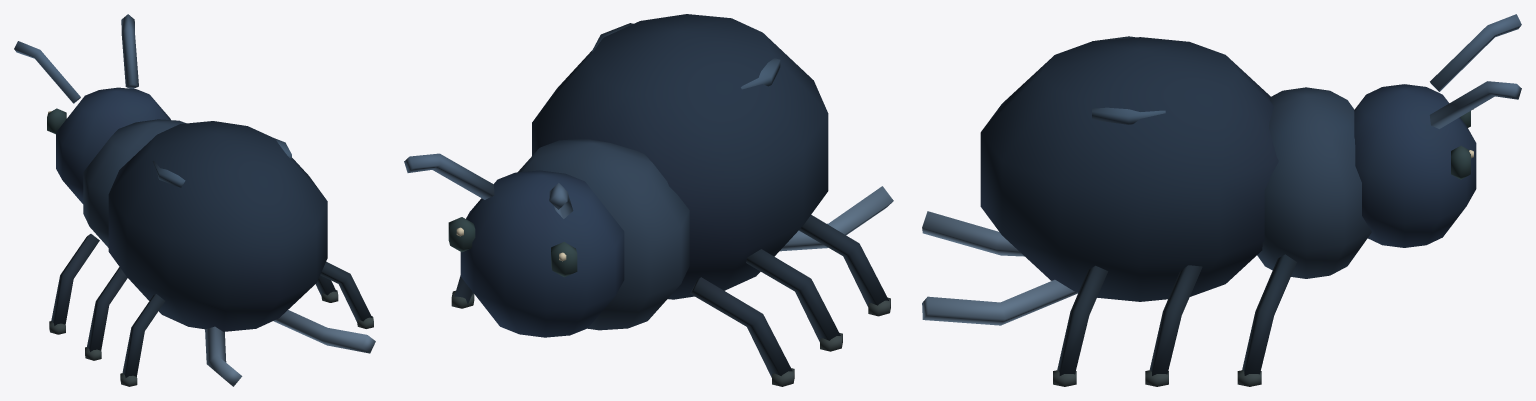
Rendered from insect_snow_springtail.glb.
3 views of the same model, side by side, from view 1: azimuth 30°, elevation 25°; view 2: azimuth 150°, elevation 25°; view 3: azimuth 270°, elevation 25° (orthographic). The views are drawn at different scales.
Parts seen in each view (by area): view 1: Model; view 2: Model; view 3: Model.
Boxes of the visible parts, left/top/right/bottom form: Model: left=14, top=14, right=375, bottom=386; Model: left=404, top=14, right=893, bottom=386; Model: left=922, top=14, right=1521, bottom=386.
Bounding box in the file's own units: 0.0821 × 0.063 × 0.1304.
